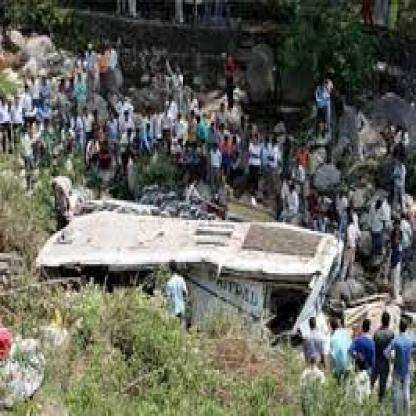accident: (41, 180, 406, 370)
